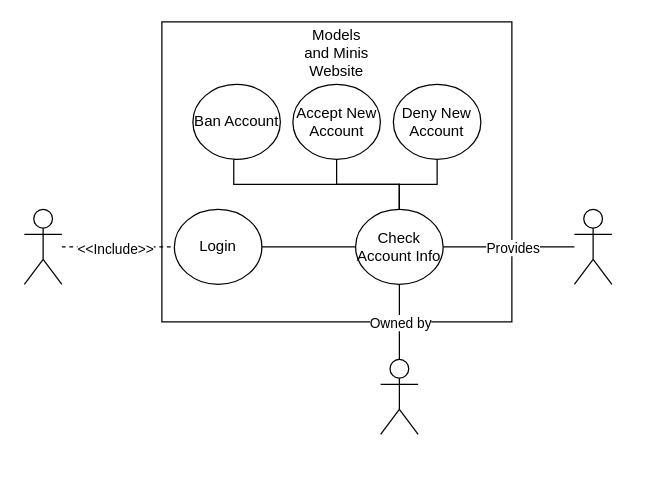
Image size: 646x483. Some labels were removed from this diagram. The box of each missing label's shape, as (x1, y1, x2, y2) in pixels:
Admin: (23, 208, 62, 284)
Database: (573, 208, 612, 284)
User: (379, 358, 418, 434)
